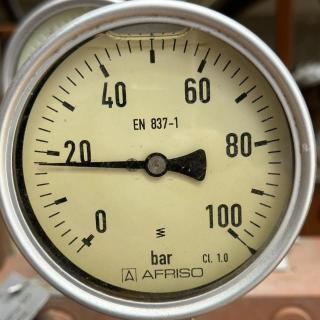gauge: (0, 0, 320, 320), (201, 201, 257, 255), (68, 208, 112, 260), (143, 150, 169, 178), (36, 161, 49, 167)
